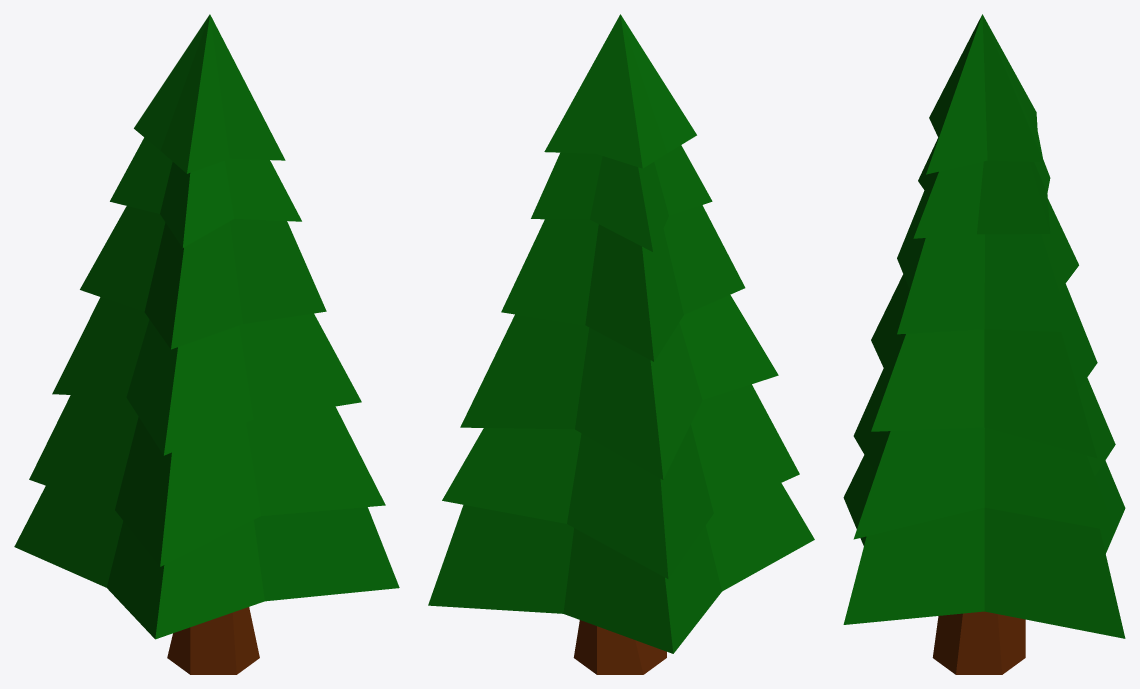
Rendered from Tiger.glb.
The picture shows the model from 3 angles, left to right: view 1: azimuth 30°, elevation 25°; view 2: azimuth 150°, elevation 25°; view 3: azimuth 270°, elevation 25°; orthographic projection.
Visible parts, largest first — view 1: tree-pine; view 2: tree-pine; view 3: tree-pine.
Part boxes in pixels (bbox=[...]): tree-pine: bbox=[14, 14, 399, 674]; tree-pine: bbox=[428, 14, 814, 674]; tree-pine: bbox=[843, 14, 1125, 674].
Size of the model in its own units: 2.4 by 6.03 by 2.4.
